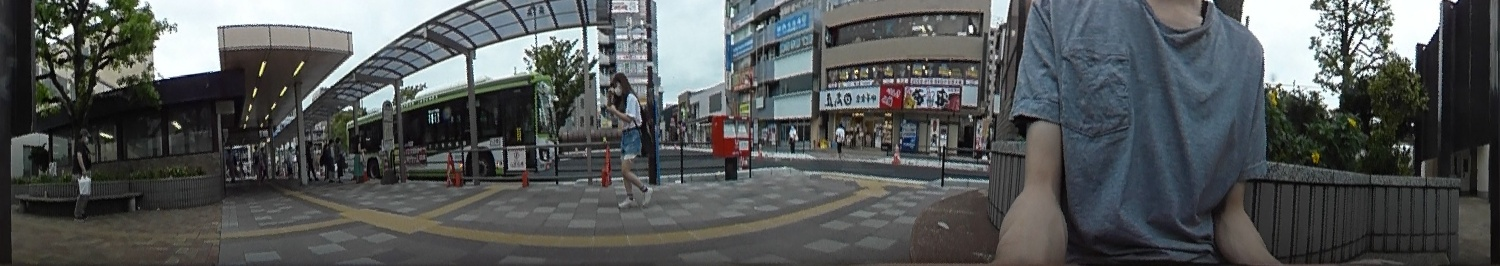difficult_person: (351, 133, 365, 181), (333, 136, 344, 178), (322, 136, 332, 179), (305, 139, 315, 178), (834, 122, 845, 155), (282, 144, 292, 180), (788, 123, 796, 154)
person: (605, 71, 654, 206), (70, 127, 92, 216)
